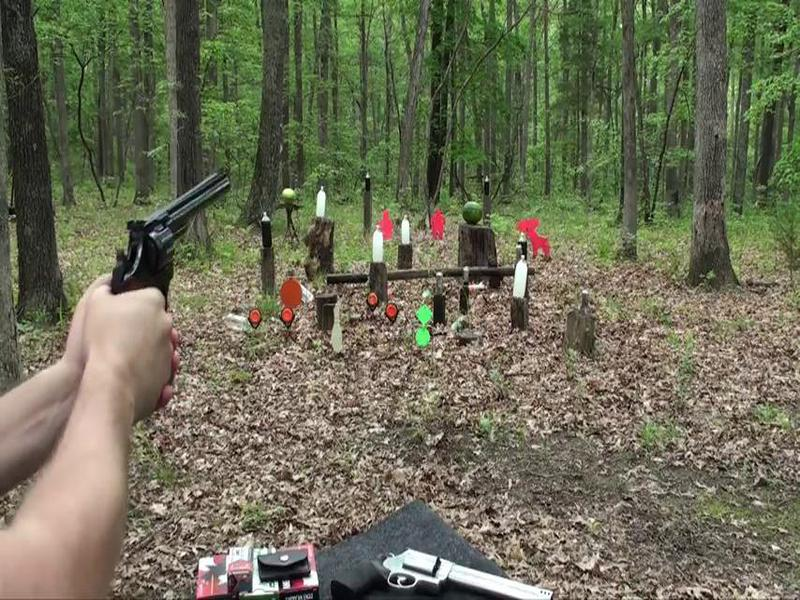Revolver: (92, 163, 249, 319)
